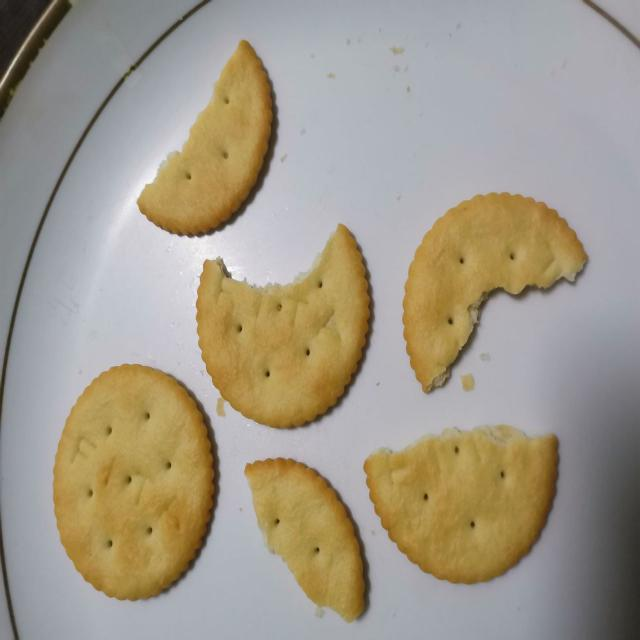broken biscuit: (401, 189, 589, 393), (194, 222, 372, 429), (362, 422, 560, 586), (135, 38, 275, 238), (245, 462, 366, 624)
intact biscuit: (51, 361, 217, 602)
